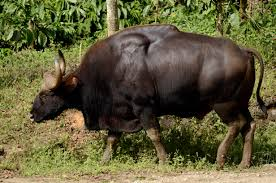bison: (31, 25, 273, 175)
